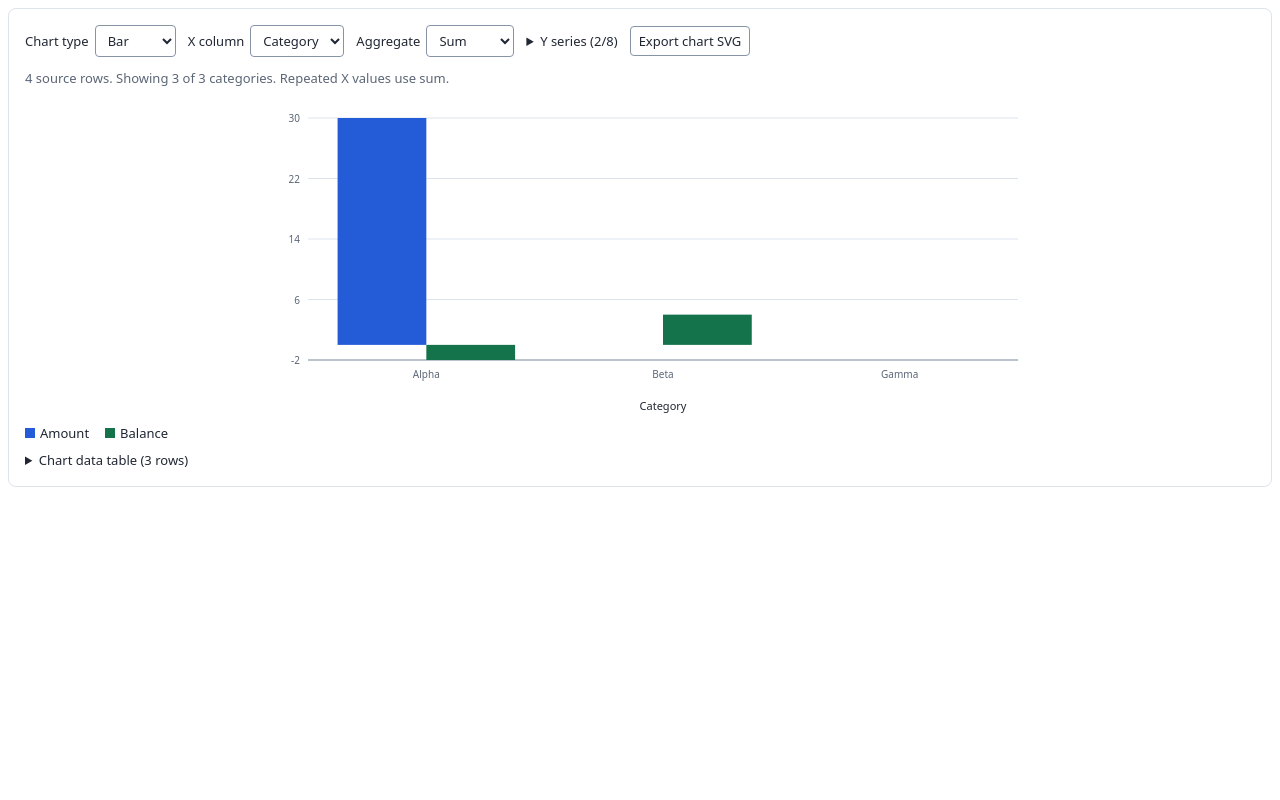
Test case: React GridChart › renders labelled SVG bars, legend and exact accessible data table
Expected: the list named "Chart legend" shows "Amount", [40, 424, 89, 442]
Click the heading "Chart data table (3 rows)" at (114, 460), box [39, 451, 188, 469]
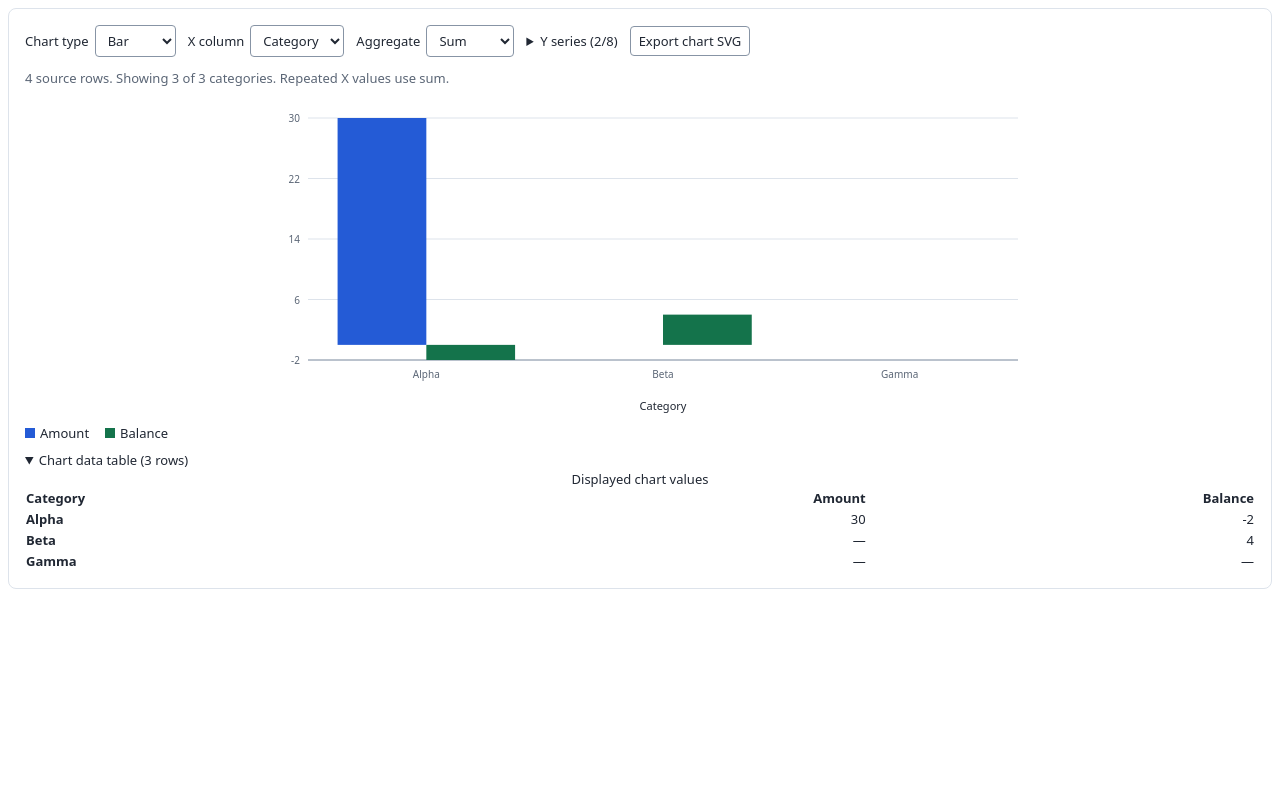
Expected: the row "Alpha 30 -2" is shown, [25, 509, 1255, 530]
